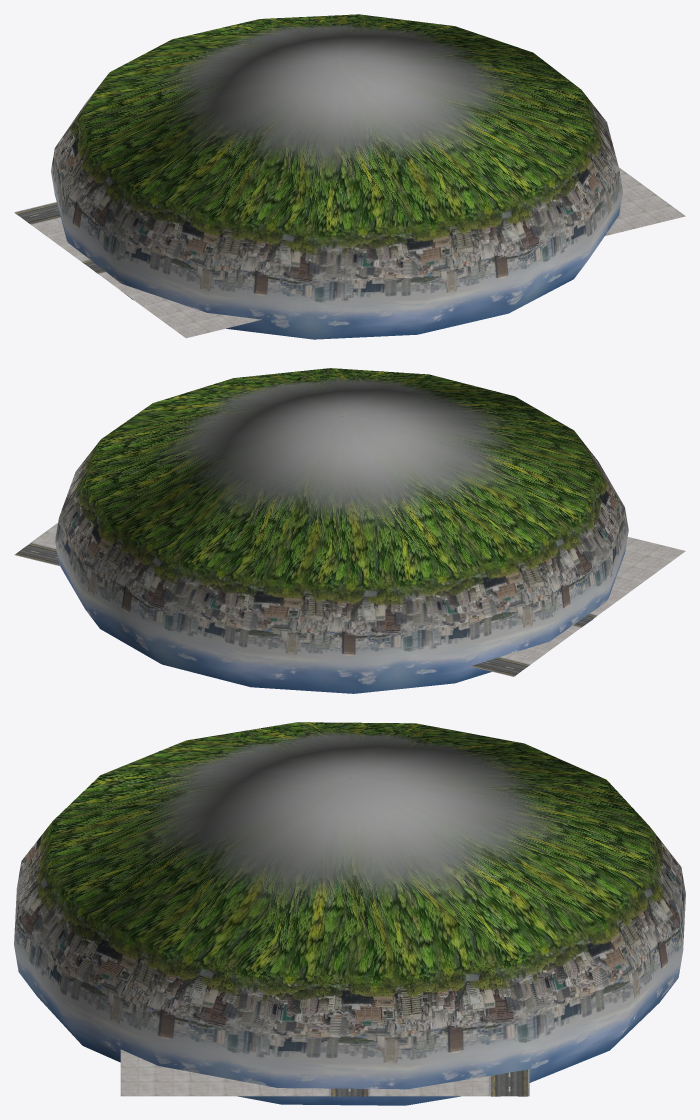
File: Airport.glb
The picture shows the model from 3 angles, top to bottom: view 1: azimuth 30°, elevation 25°; view 2: azimuth 150°, elevation 25°; view 3: azimuth 270°, elevation 25°; orthographic projection. The views are drawn at different scales.
Parts seen in each view (by area): view 1: Airport; view 2: Airport; view 3: Airport.
Part boxes in pixels (x1,y1,x2,y2): Airport: (14,14,685,339); Airport: (14,368,685,693); Airport: (14,722,685,1105).
Size of the model in its own units: 1039 by 328 by 1018.
14 materials, 13 textured.
